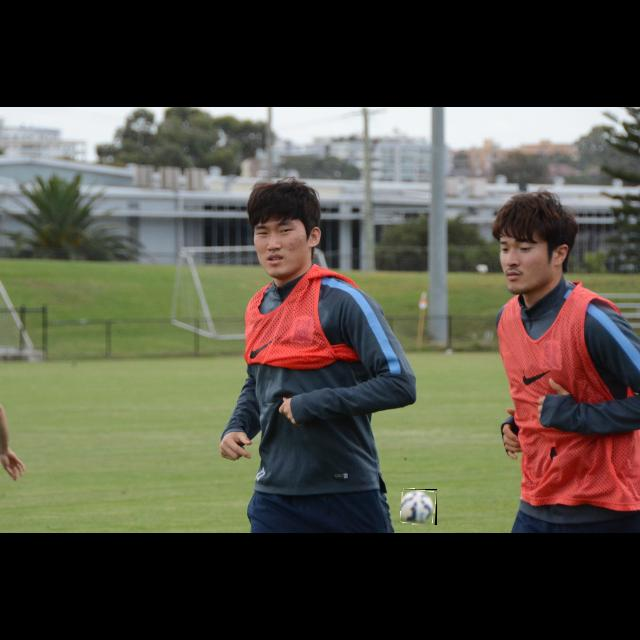Football: (401, 489, 437, 525)
